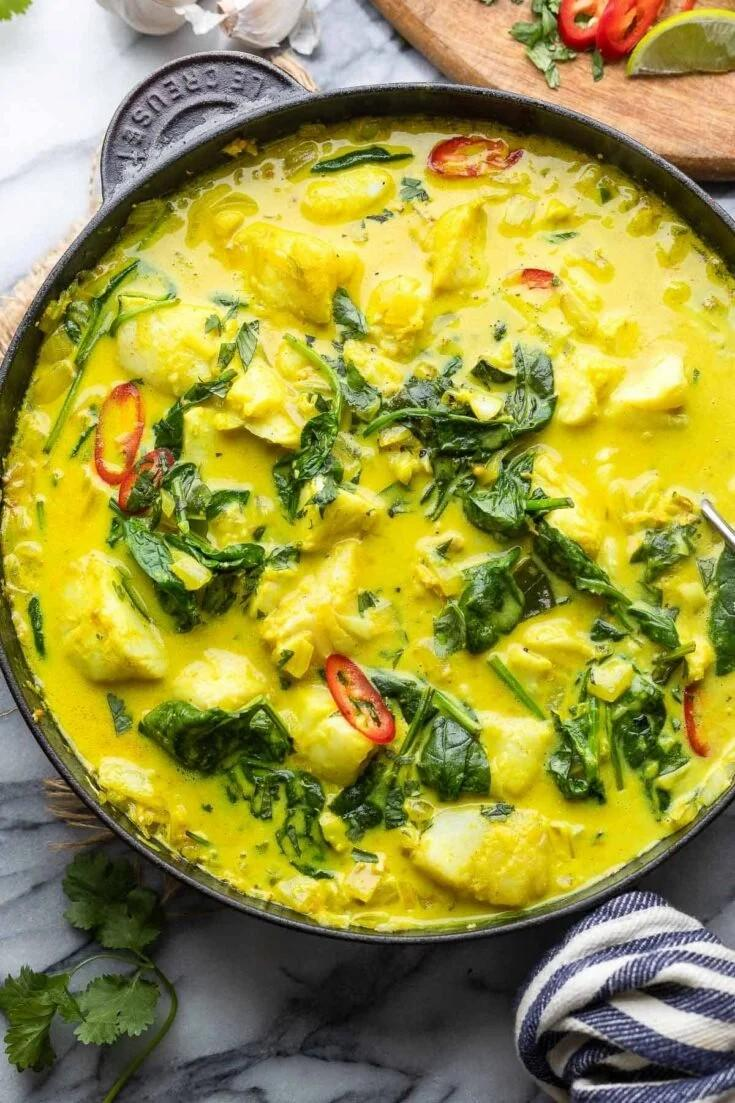FishCurry: (13, 131, 735, 929)
